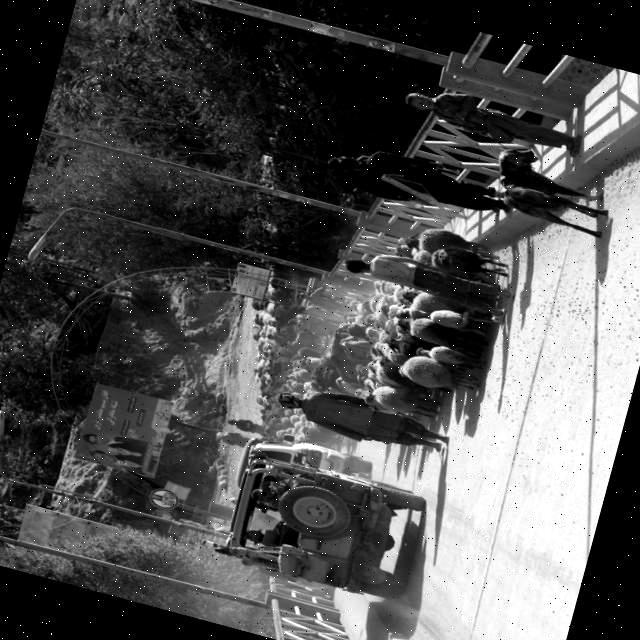sheep: (396, 356, 478, 390)
